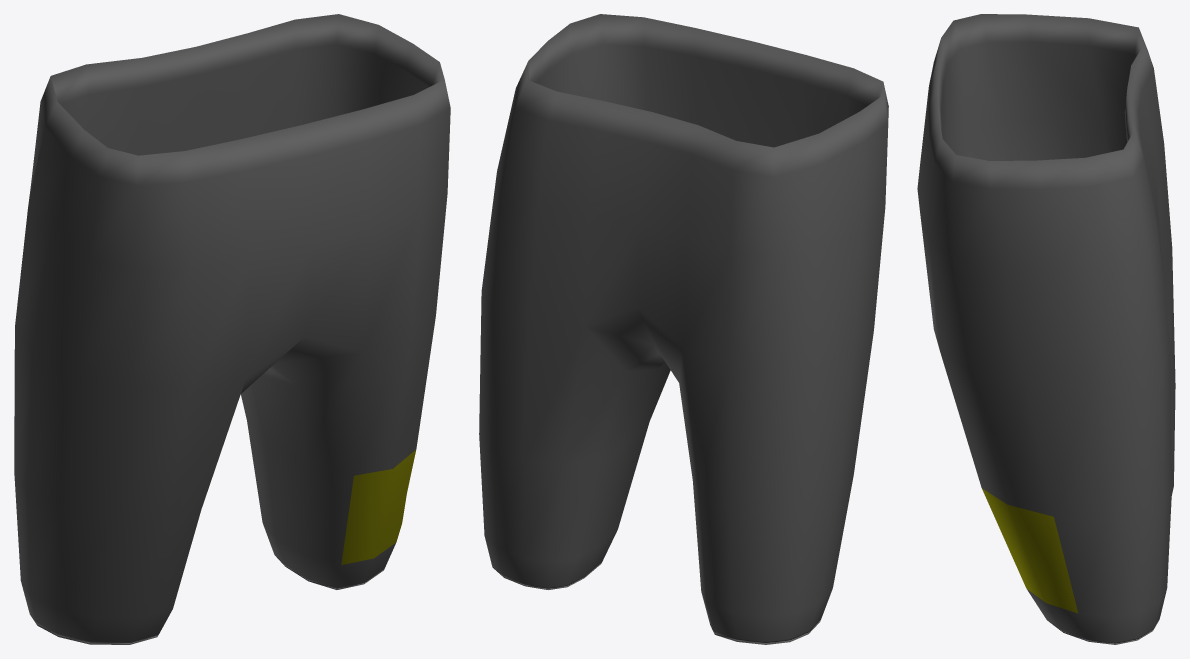
The model's file is pants.fbx.
3 renders of one model, left to right at view 1: azimuth 30°, elevation 25°; view 2: azimuth 150°, elevation 25°; view 3: azimuth 270°, elevation 25°, orthographic. The views are drawn at different scales.
Visible parts, largest first — view 1: pants; view 2: pants; view 3: pants.
Boxes of the visible parts, x1=… form: pants: x1=14, y1=14, x2=450, y2=644; pants: x1=479, y1=14, x2=888, y2=644; pants: x1=917, y1=14, x2=1175, y2=644.
Bounding box in the file's own units: 22.74 × 30.24 × 14.79.
